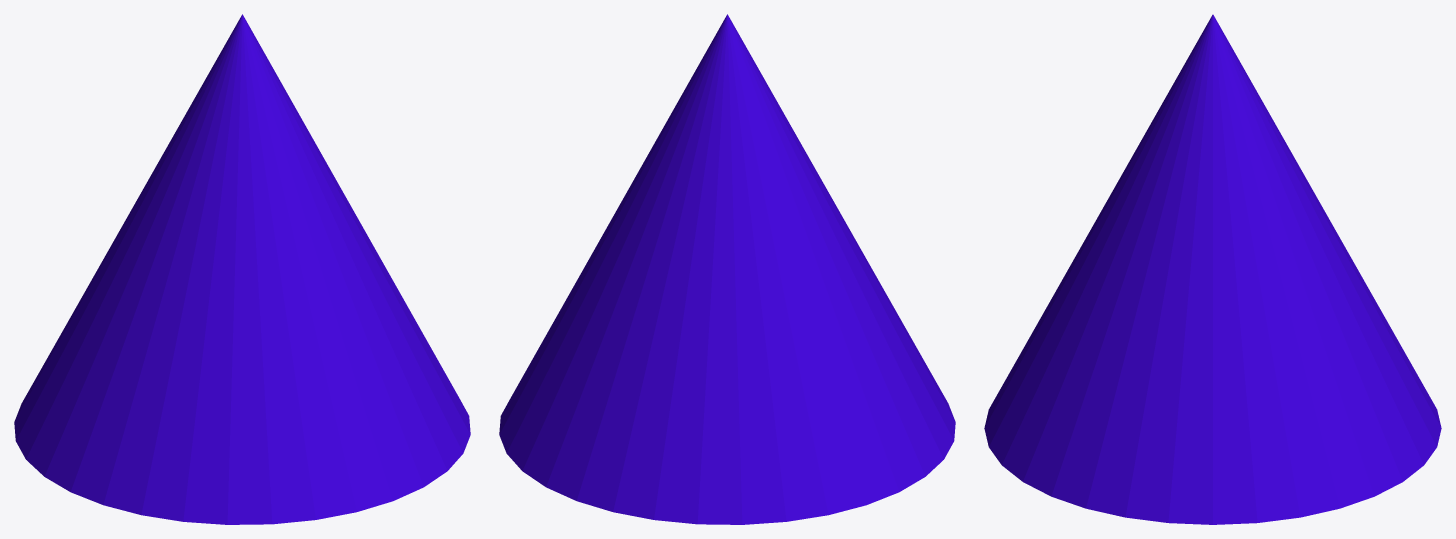
Rendered from davidSphereC2.gltf.
3 views of the same model, side by side, from view 1: azimuth 30°, elevation 25°; view 2: azimuth 150°, elevation 25°; view 3: azimuth 270°, elevation 25° (orthographic).
Parts seen in each view (by area): view 1: davidSphereC2; view 2: davidSphereC2; view 3: davidSphereC2.
Part boxes in pixels (x1,y1,x2,y2): davidSphereC2: [14, 14, 470, 524]; davidSphereC2: [499, 14, 955, 524]; davidSphereC2: [984, 14, 1441, 524].
Size of the model in its own units: 0.7338 by 0.7338 by 0.7338.
